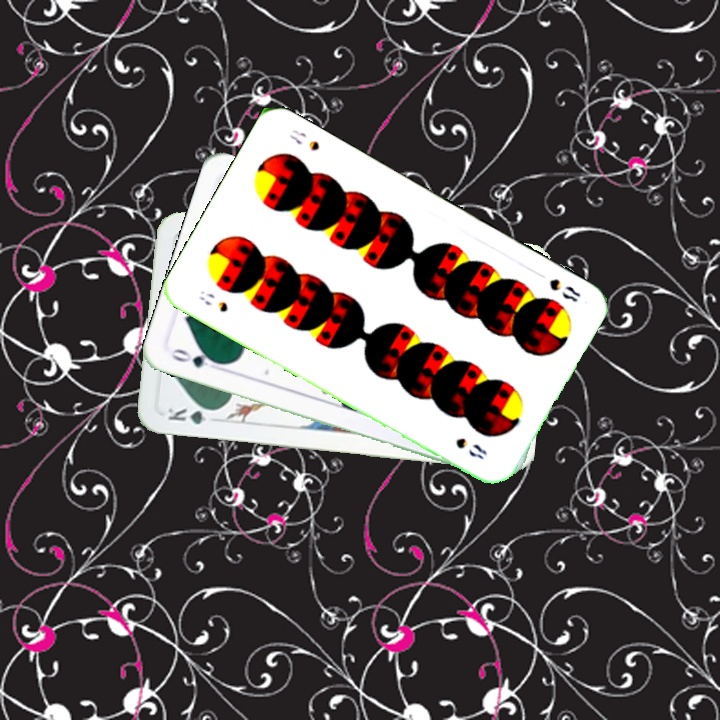GK: (164, 404, 221, 428)
GO: (167, 344, 225, 371)
S8: (545, 274, 583, 305), (195, 286, 231, 315)
